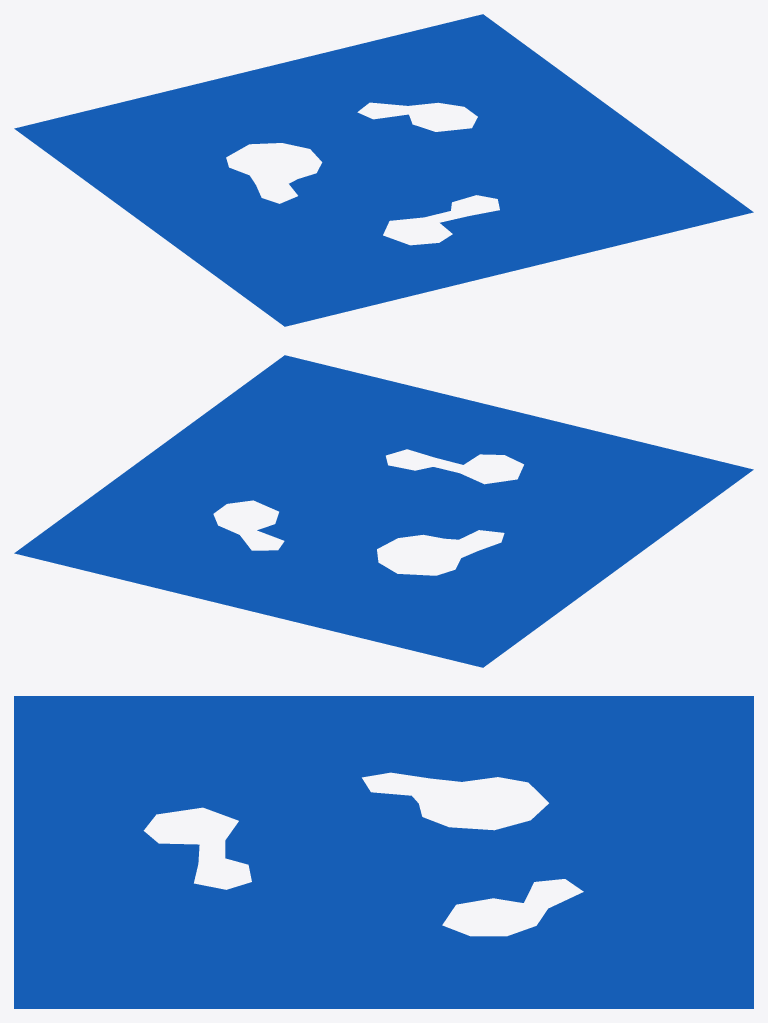
Rendered from forest-navmesh.glb.
3 views of the same model, one above another, from view 1: azimuth 30°, elevation 25°; view 2: azimuth 150°, elevation 25°; view 3: azimuth 270°, elevation 25° (orthographic). The views are drawn at different scales.
Visible parts, largest first — view 1: Navmesh; view 2: Navmesh; view 3: Navmesh.
Part boxes in pixels (bbox=[...]): Navmesh: bbox=[14, 14, 753, 326]; Navmesh: bbox=[14, 355, 753, 667]; Navmesh: bbox=[14, 696, 753, 1008].
Size of the model in its own units: 8.39 by 0 by 8.39.
Materials: 1 (1 with a texture image).
